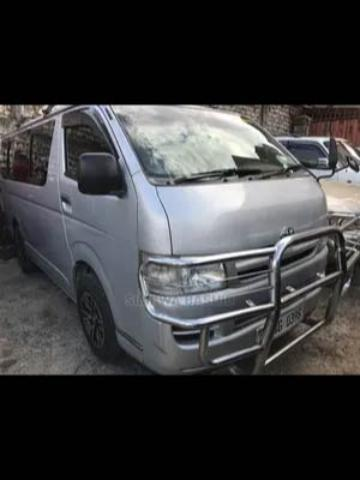van: (0, 108, 353, 370)
